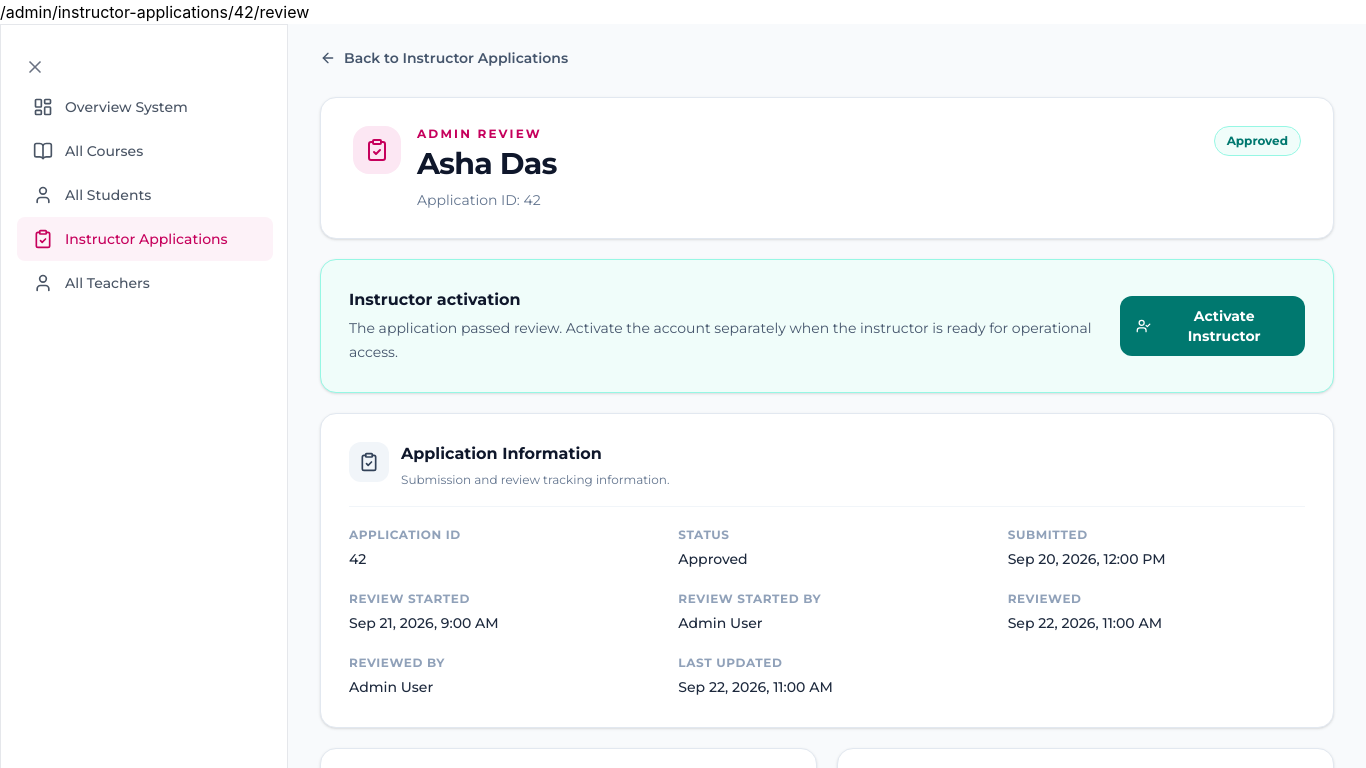
Test: Instructor application review detail › requires confirmation and updates an approved application after activation
Click the button "Activate Instructor". click: (1213,326)
box: [1120,296,1305,356]
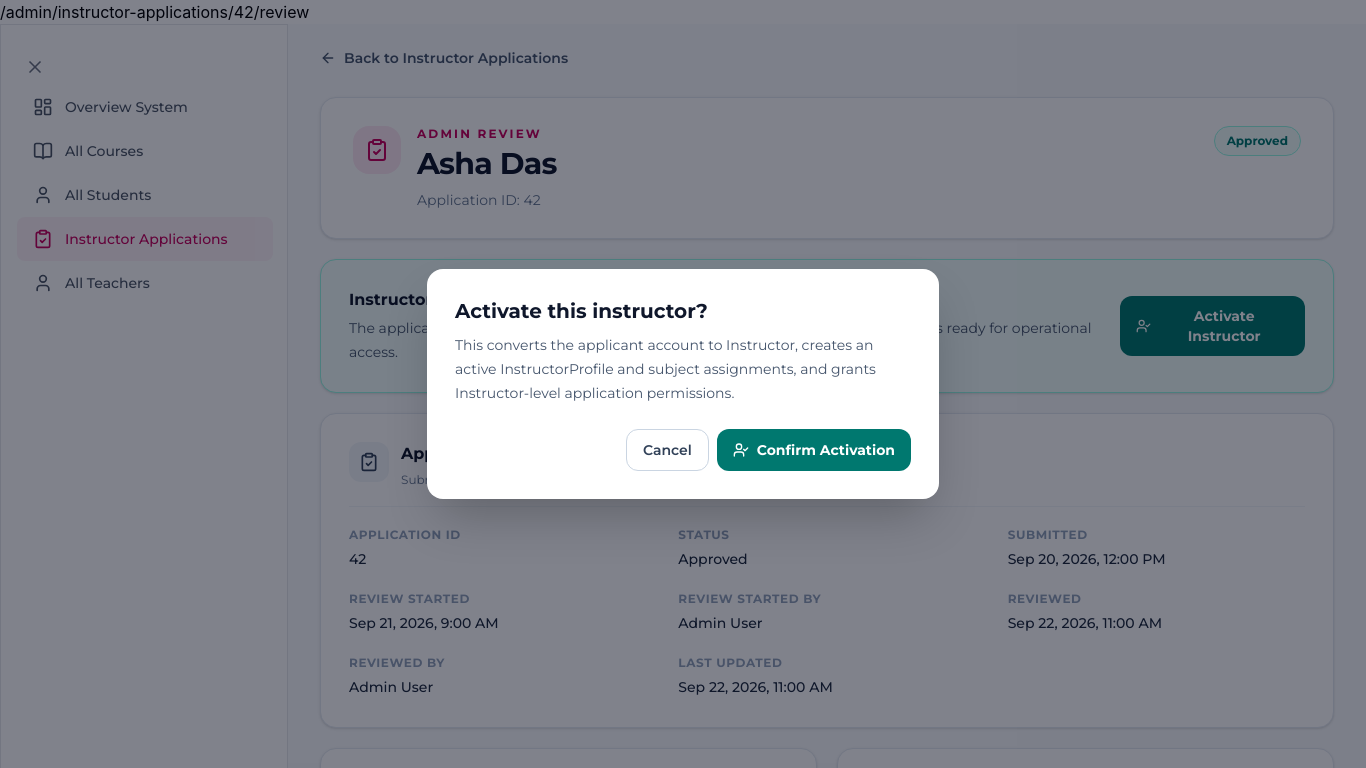
Check: the dialog "Activate this instructor?" shows "creates an active InstructorProfile and subject assignments", box [455,336,876,402]
Click the button "Confirm Activation". click: (814,450)
box: [717,429,911,471]
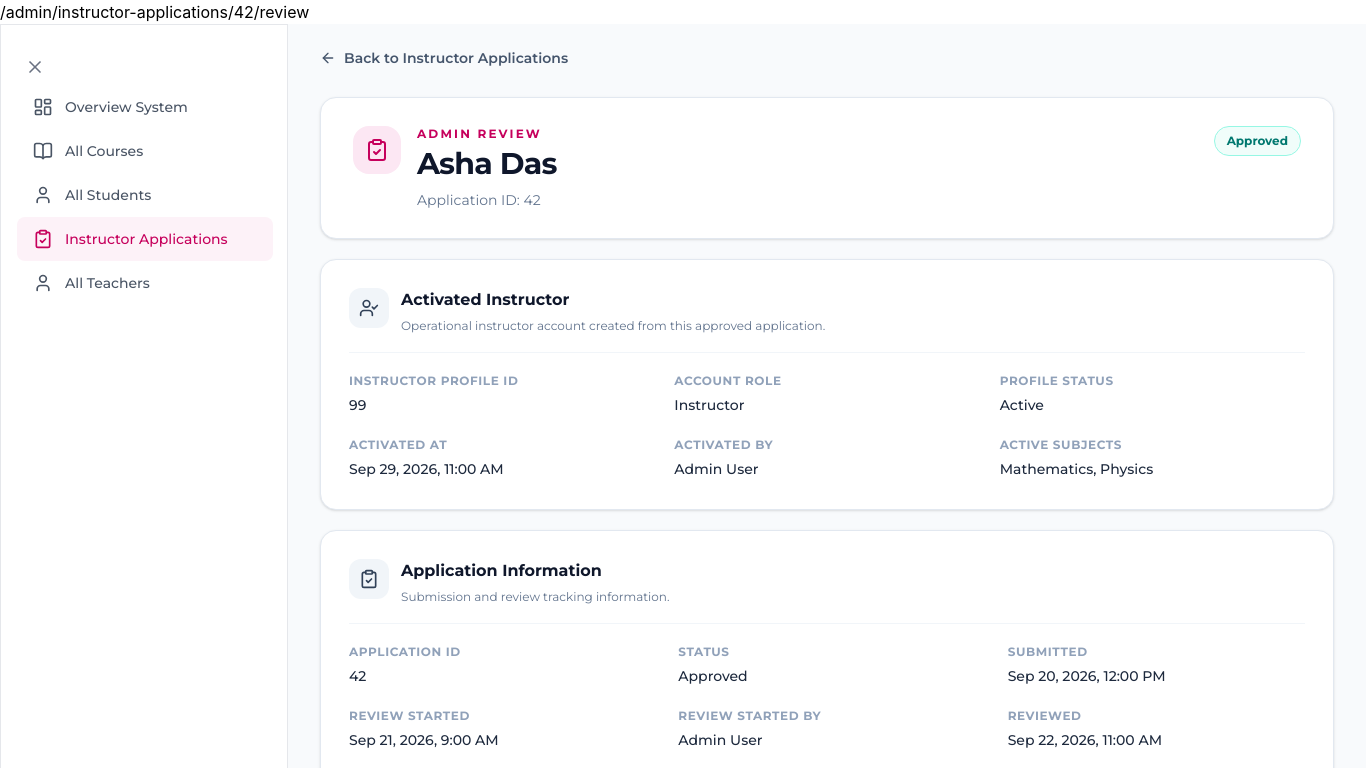
Check: the button "Activate Instructor" is gone
Check: the heading "Activated Instructor" is shown, box [401,290,569,309]
Check: the text "99" is shown, box [349,396,366,414]
